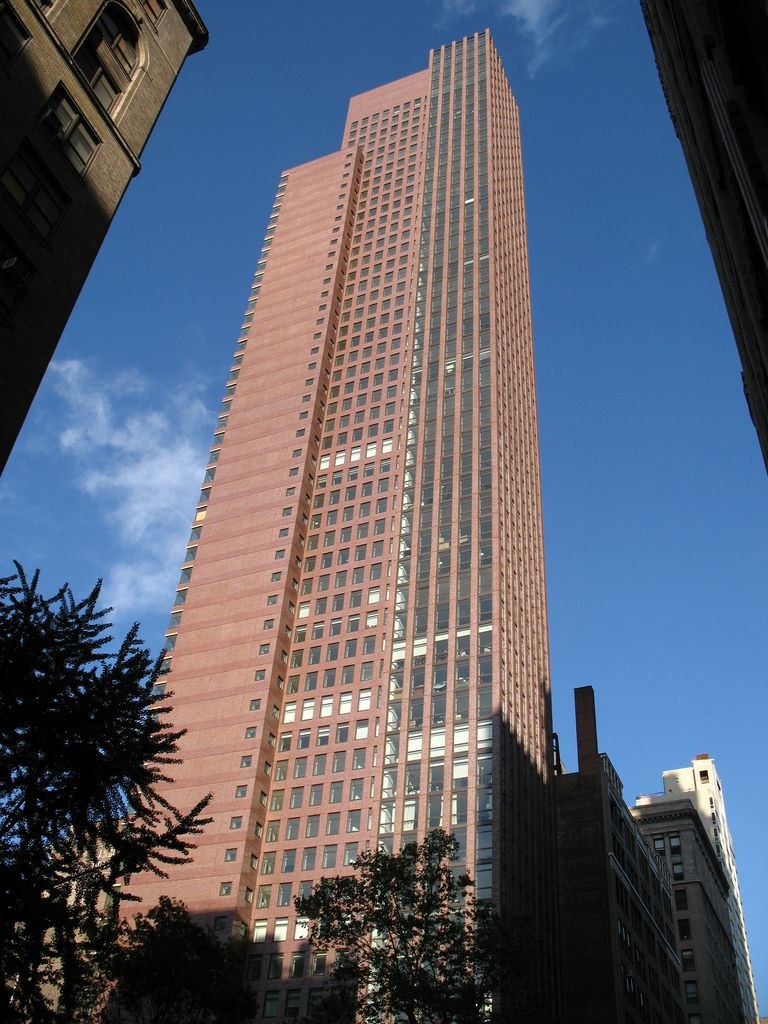Sky Building: (178, 21, 562, 942)
